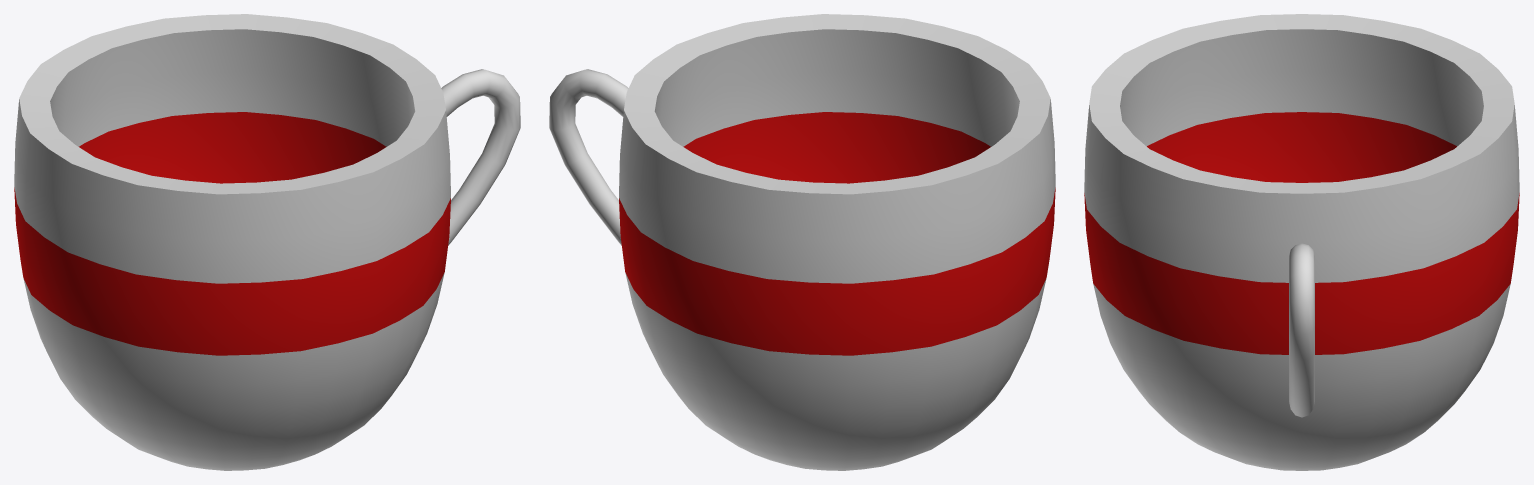
Rendered from 3D_Mug.FBX.
3 views of the same model, side by side, from view 1: azimuth 30°, elevation 25°; view 2: azimuth 150°, elevation 25°; view 3: azimuth 270°, elevation 25° (orthographic).
Parts seen in each view (by area): view 1: 3D_Mug; view 2: 3D_Mug; view 3: 3D_Mug.
Boxes of the visible parts, x1,y1,x2,y2 form: 3D_Mug: (14,14,520,470); 3D_Mug: (549,14,1055,470); 3D_Mug: (1084,14,1519,470).
Bounding box in the file's own units: 46.37 × 32.35 × 36.79.
